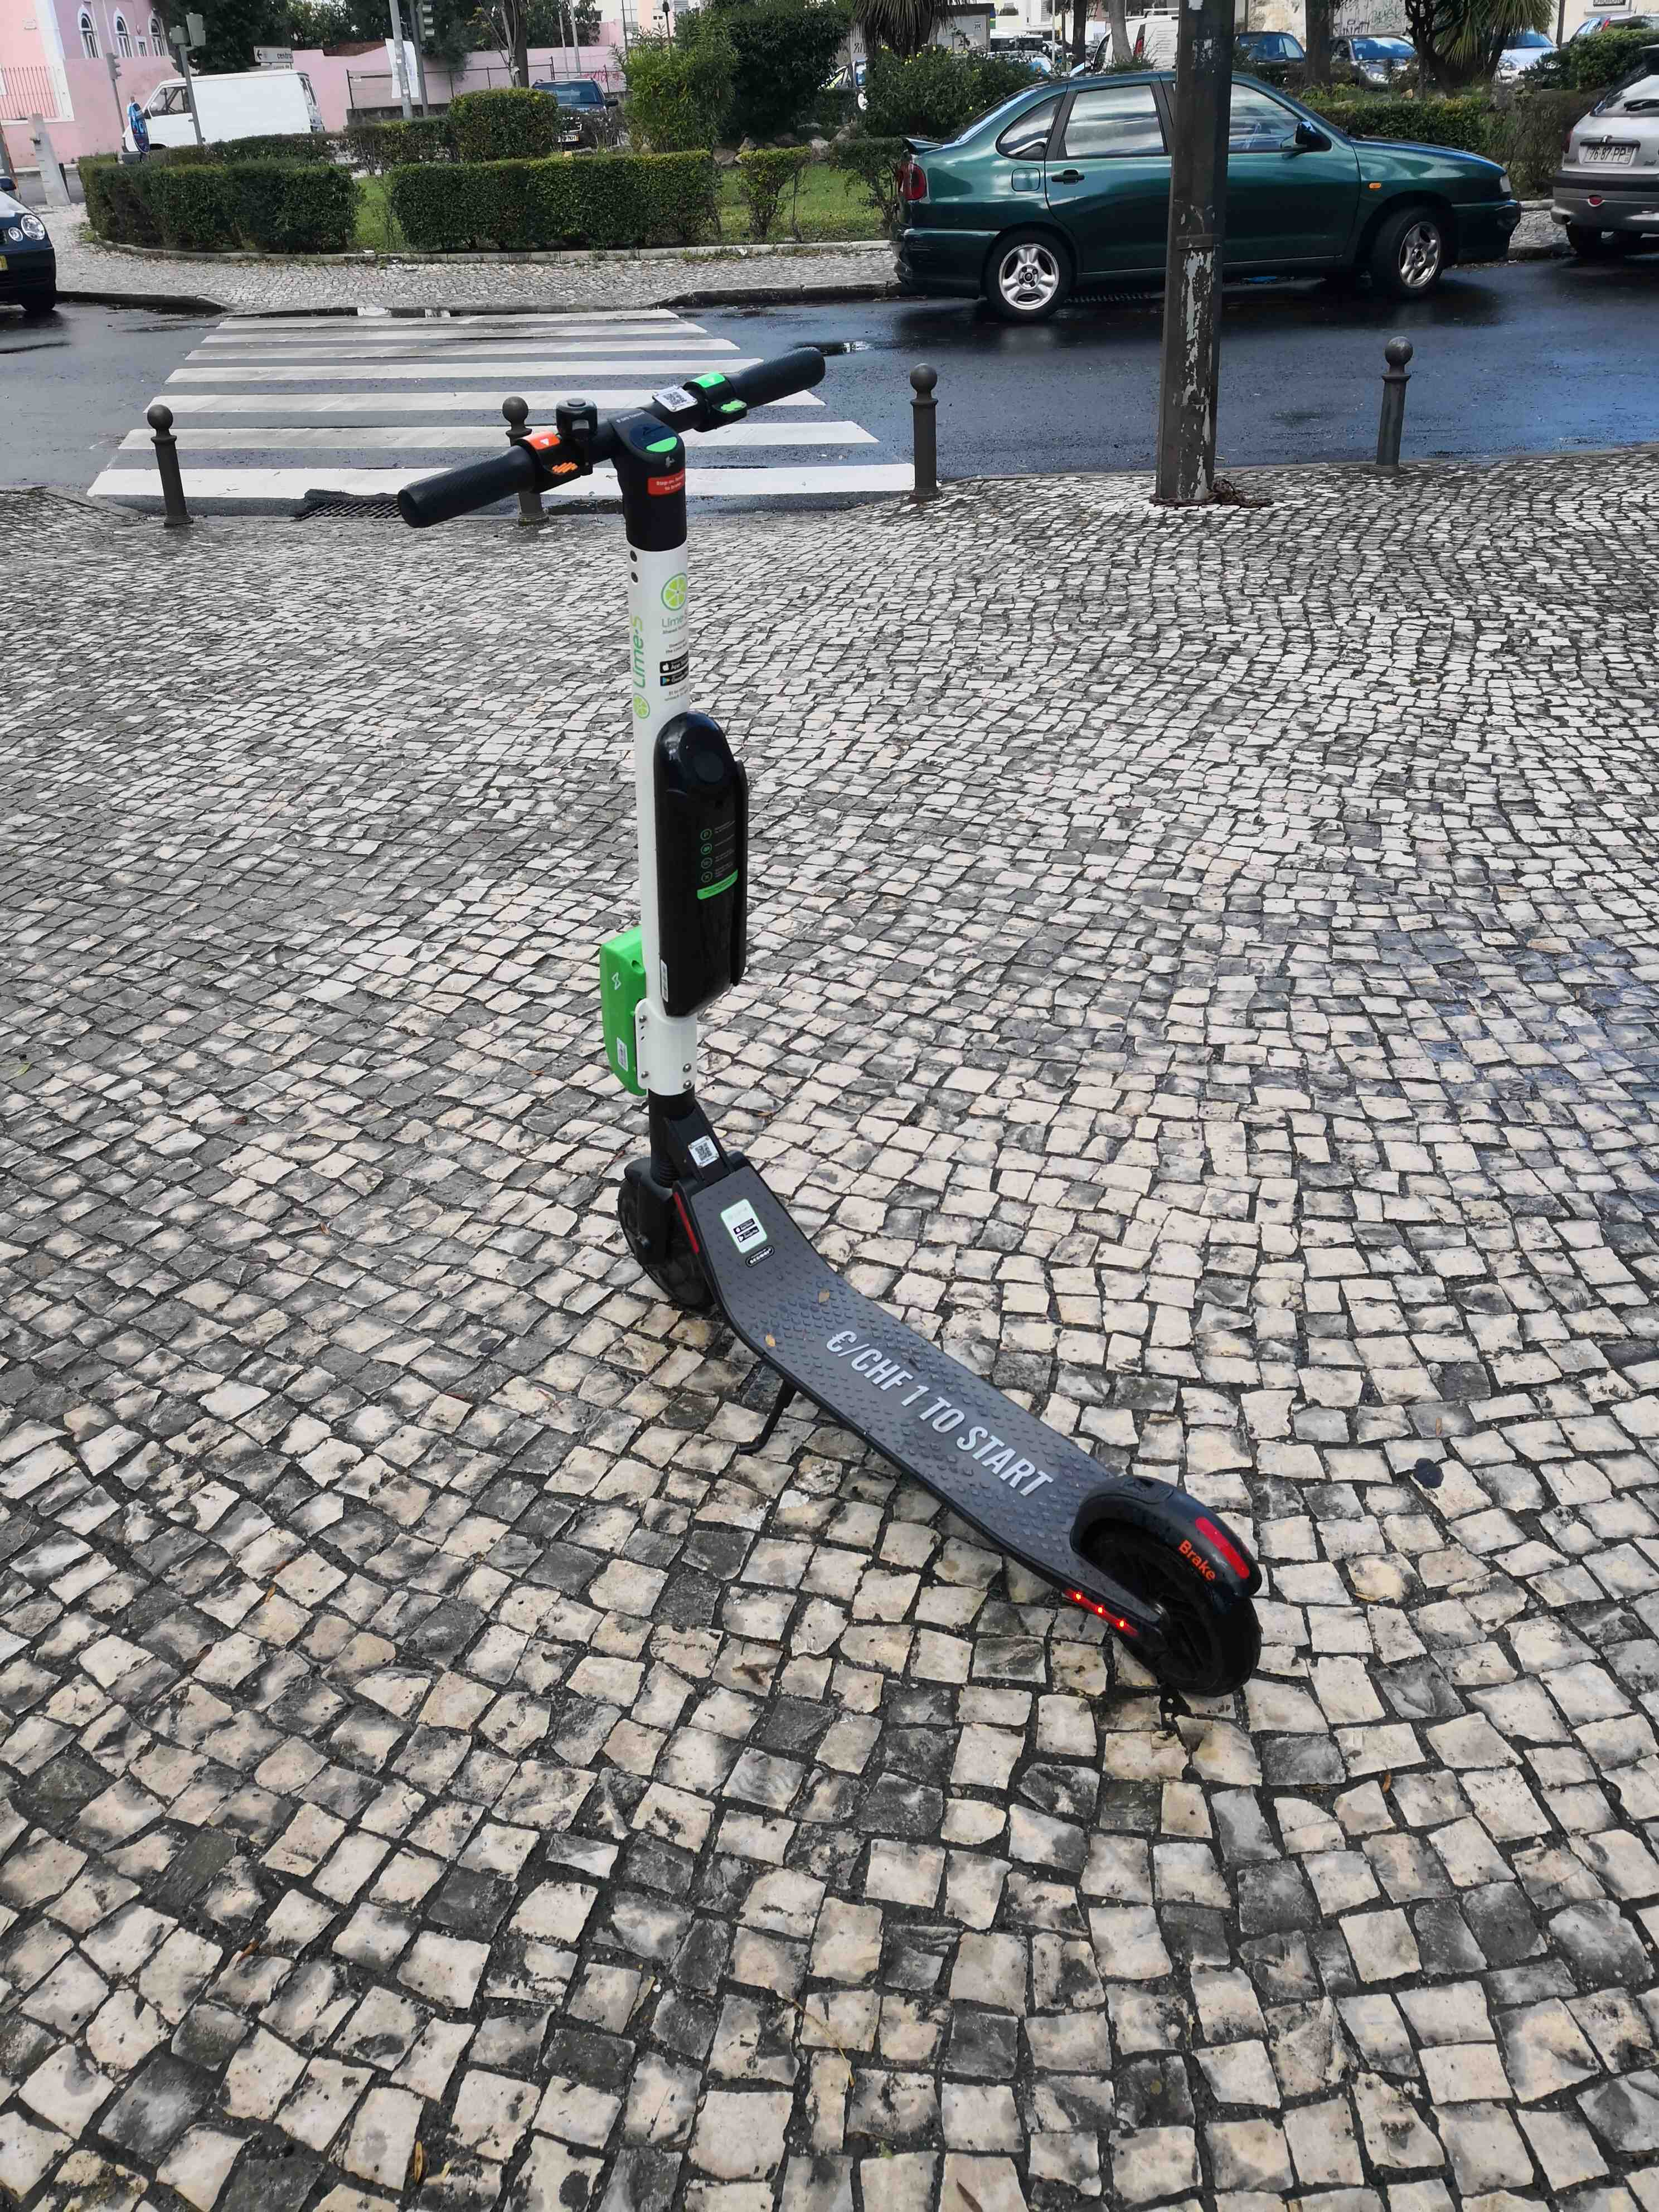scooter: (307, 340, 1284, 1702)
